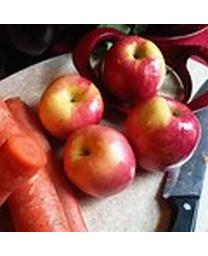apple: (123, 95, 201, 174), (61, 125, 137, 198), (100, 34, 165, 103), (36, 74, 103, 139)
